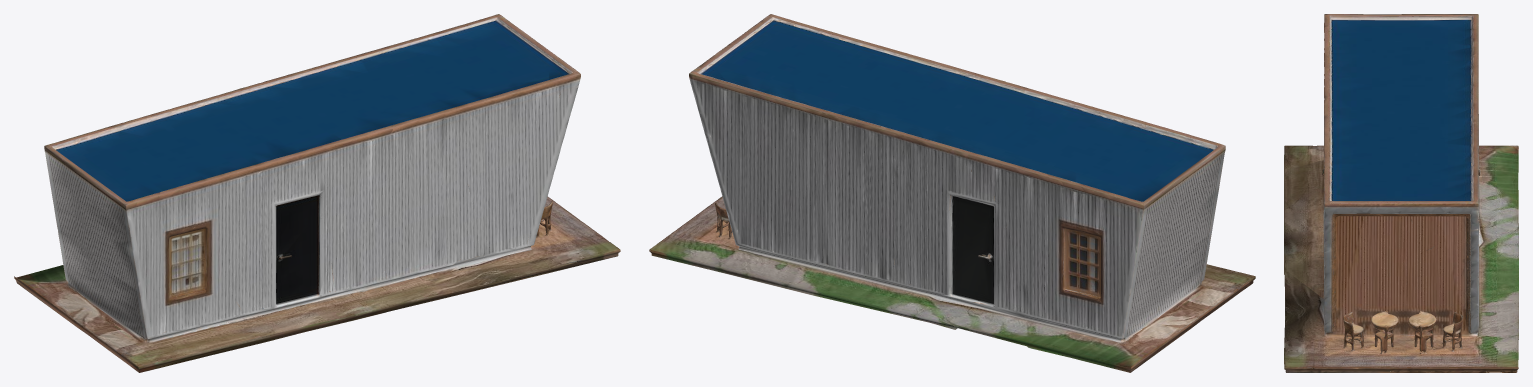
3 views of the same model, side by side, from view 1: azimuth 30°, elevation 25°; view 2: azimuth 150°, elevation 25°; view 3: azimuth 270°, elevation 25° (orthographic). The views are drawn at different scales.
Parts seen in each view (by area): view 1: Mesh_0; view 2: Mesh_0; view 3: Mesh_0.
Boxes of the visible parts, <box> form: Mesh_0: <box>14,14,620,372</box>; Mesh_0: <box>649,14,1255,372</box>; Mesh_0: <box>1284,14,1518,372</box>.
Size of the model in its own units: 1.9 by 0.6473 by 0.85.
Materials: 1 (1 with a texture image).
